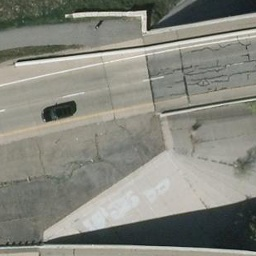car: (39, 100, 79, 125)
